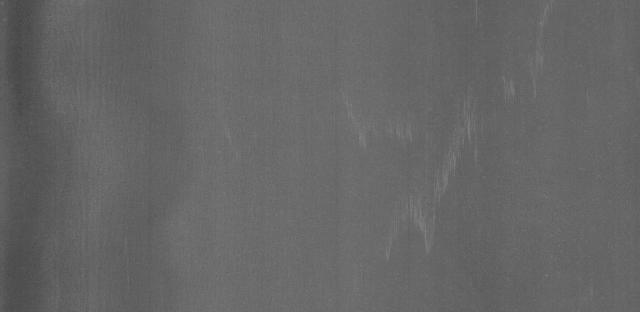silk_spot: (324, 47, 561, 258)
